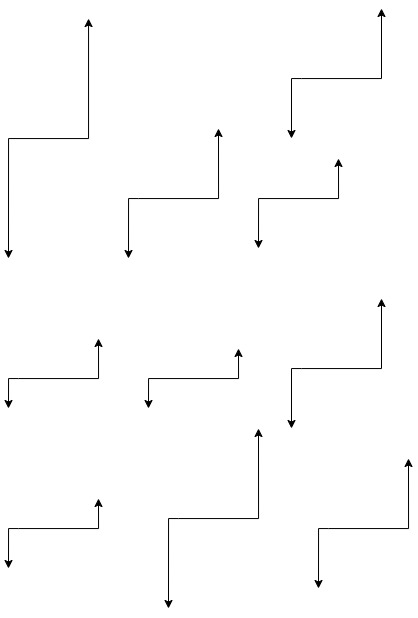bi_horizontal: (4, 17, 94, 261), (157, 426, 267, 611), (285, 297, 387, 435), (285, 6, 389, 141), (125, 127, 225, 261), (312, 457, 412, 589), (253, 157, 347, 251), (5, 336, 105, 410), (2, 496, 103, 567), (145, 347, 245, 408)
